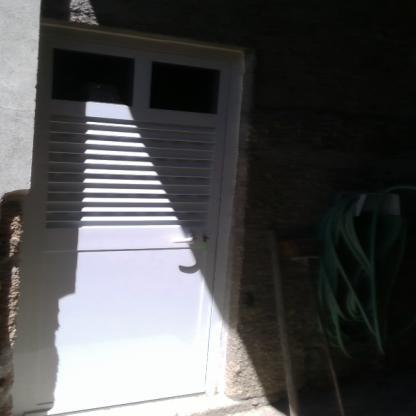door: (42, 34, 218, 398)
lever: (171, 236, 197, 244)
